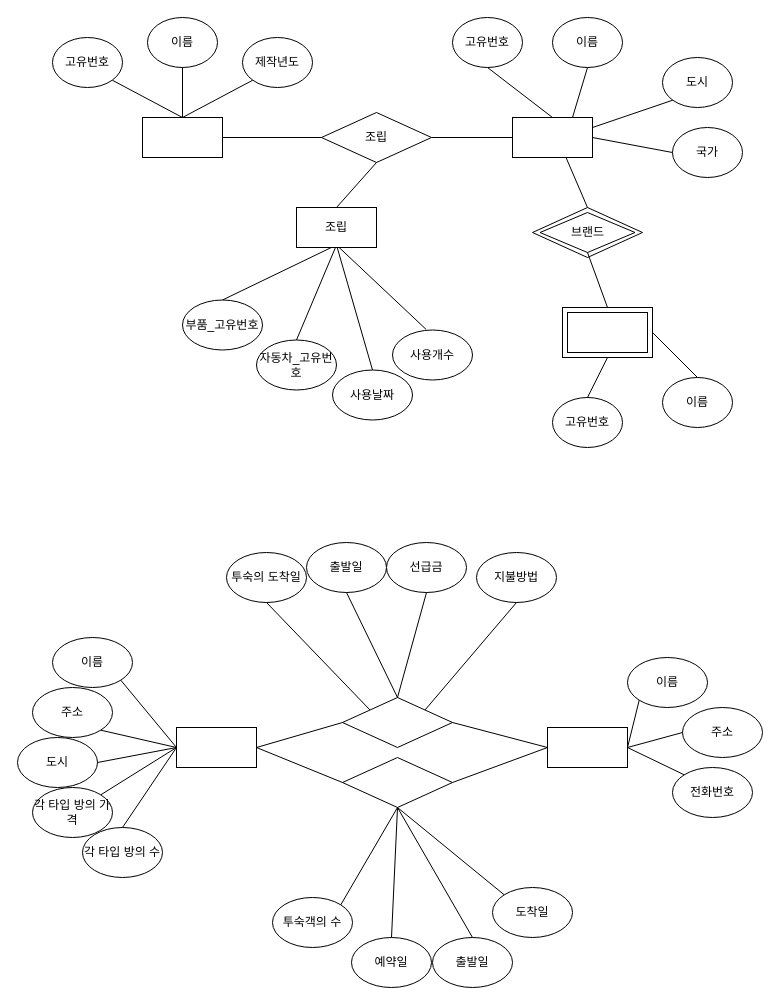
Some shapes in this 780 by 1005 pixel diagram are drawn without their labels. The shapes that lost their labels are listed below. From the top down, each one's centre as x and y in pixels, then its label:
pixel 182 137: 부품
pixel 552 137: 자동차회사
pixel 607 332: 자동차
pixel 397 722: 실제투숙
pixel 216 747: 호텔
pixel 587 747: 고객
pixel 397 782: 예약
